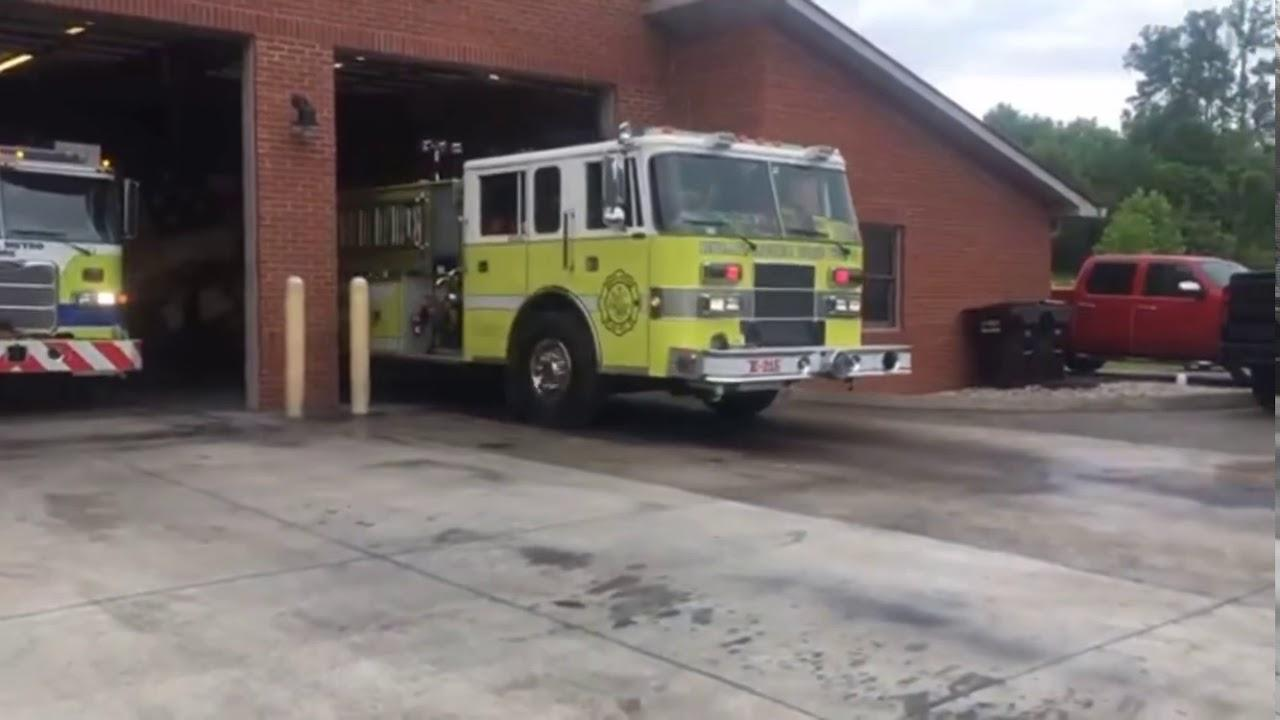firetruck_off: (337, 126, 910, 431), (0, 145, 147, 409)
